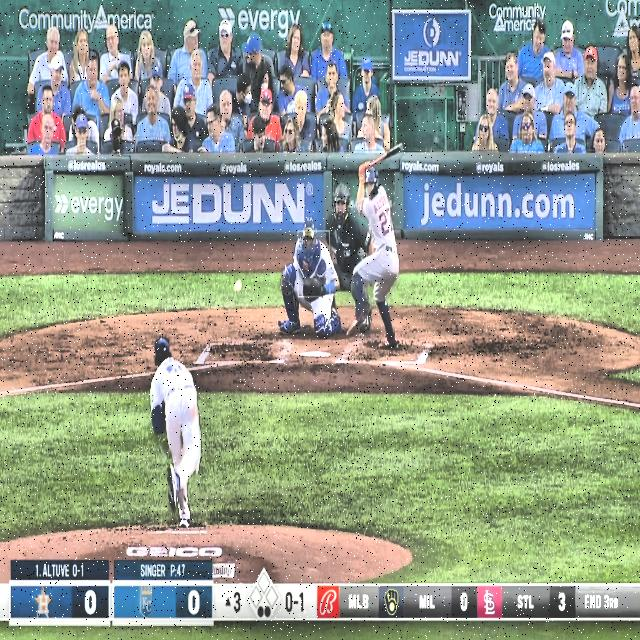baseball: (234, 279, 242, 293)
